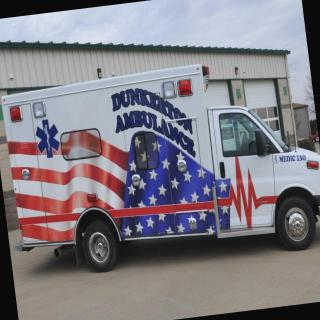Ambulance: (0, 39, 320, 289)
